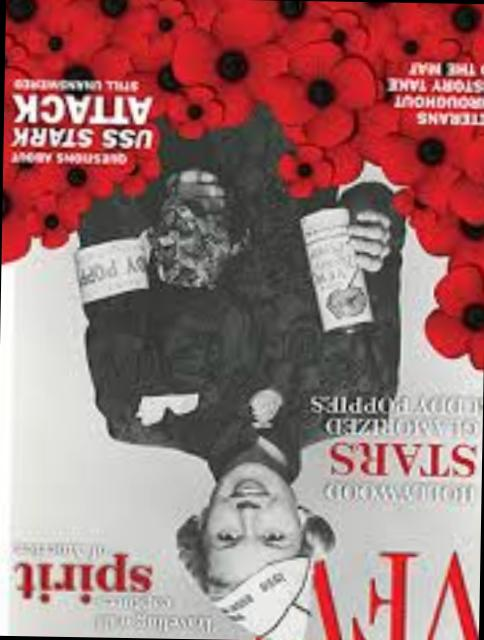cardboard paper: (16, 119, 483, 640)
